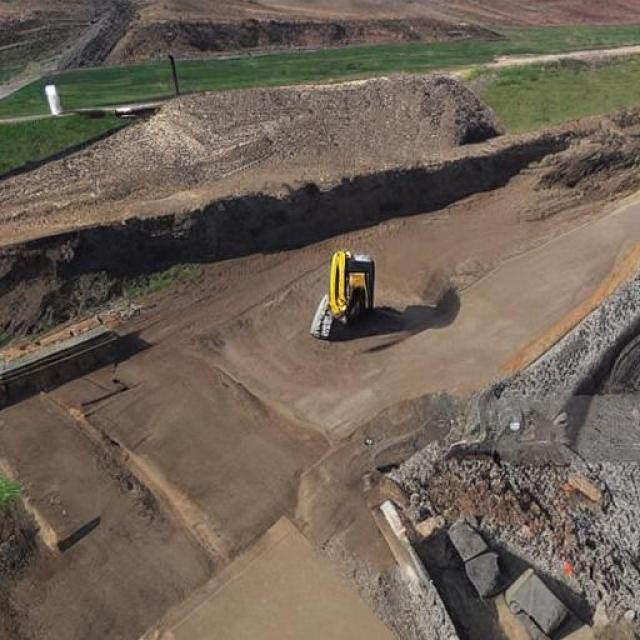excavator: (126, 69, 497, 423)
